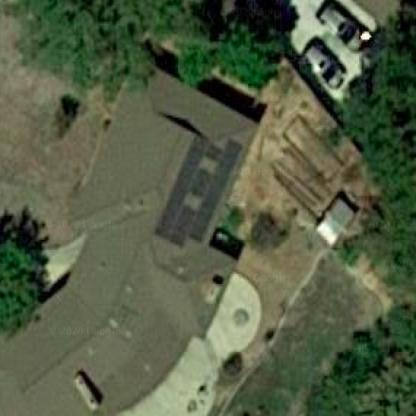car: (314, 3, 370, 59), (292, 38, 345, 93)
solar_panel: (162, 122, 245, 250)
